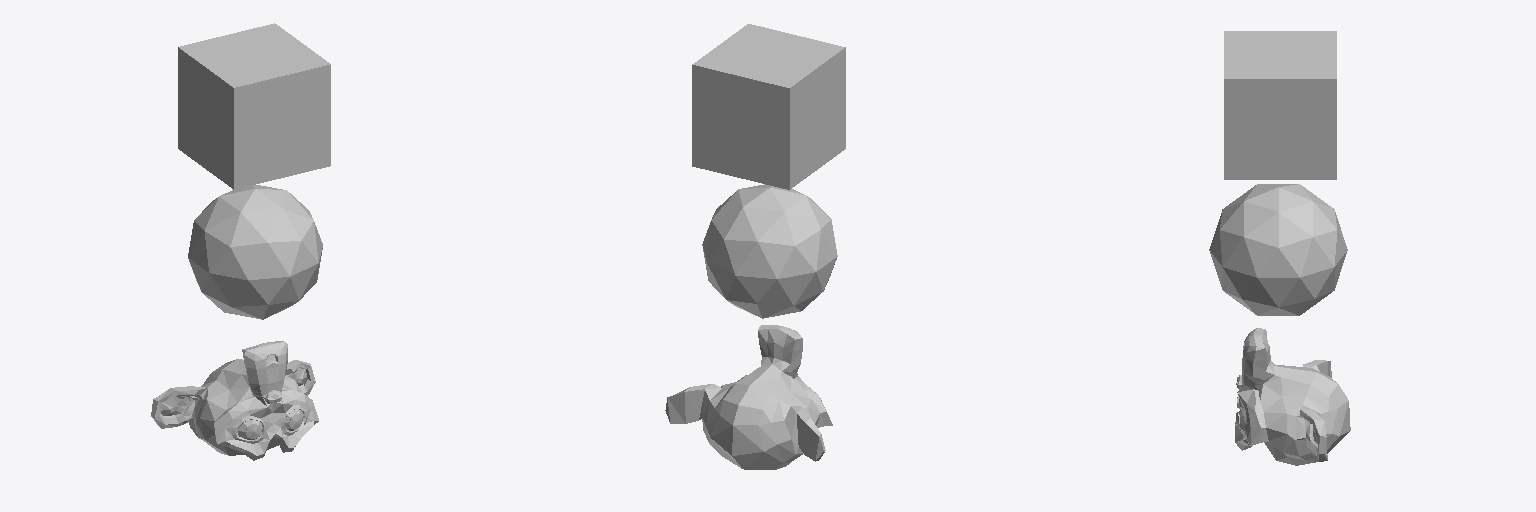
The model's file is spheres.obj.
The picture shows the model from 3 angles: view 1: azimuth 30°, elevation 25°; view 2: azimuth 150°, elevation 25°; view 3: azimuth 270°, elevation 25°; orthographic projection.
Visible parts, largest first — view 1: Icosphere; view 2: Icosphere; view 3: Icosphere.
Boxes of the visible parts, x1,y1,x2,y2 form: Icosphere: [151, 23, 330, 460]; Icosphere: [665, 24, 845, 469]; Icosphere: [1209, 31, 1350, 465].
Size of the model in its own units: 0.7421 by 1.77 by 0.5644.